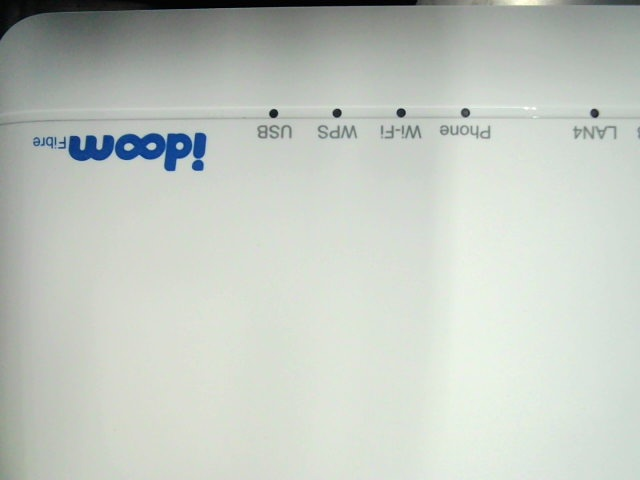BB_idoom: (24, 122, 214, 172)
